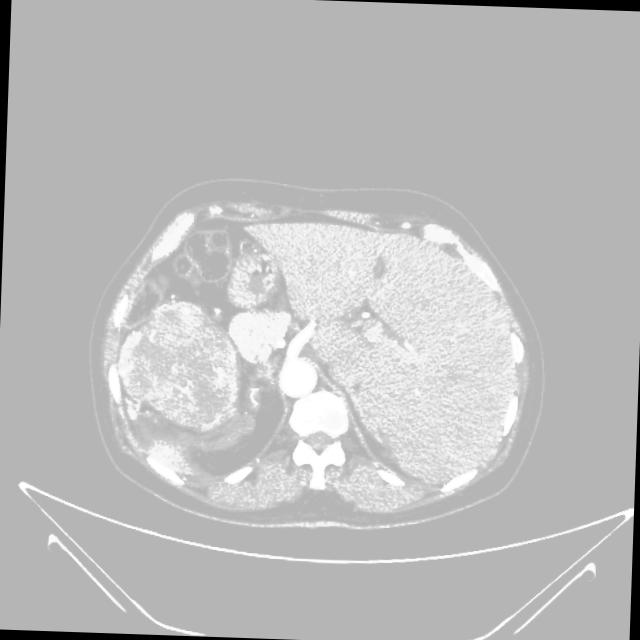TUMOR: (56, 266, 282, 472)
